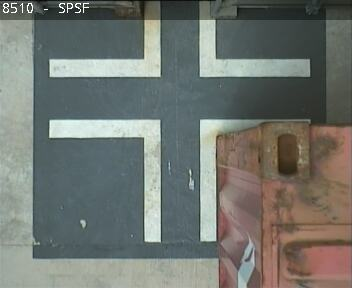groundmarker_1: (48, 120, 310, 243), (48, 1, 310, 75)
